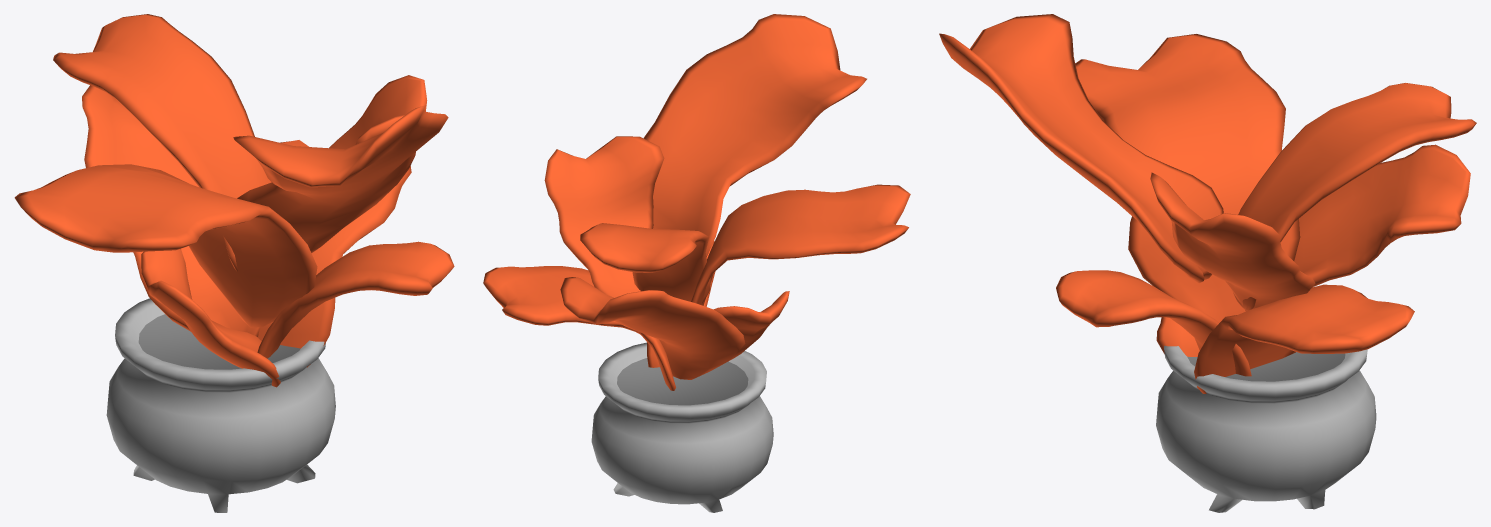
File: V2_Folige_01.fbx
3 renders of one model, left to right at view 1: azimuth 30°, elevation 25°; view 2: azimuth 150°, elevation 25°; view 3: azimuth 270°, elevation 25°, orthographic. The views are drawn at different scales.
Visible parts, largest first — view 1: Cylinder.038; view 2: Cylinder.038; view 3: Cylinder.038.
Part boxes in pixels (box(x1,y1,x2,y2)): Cylinder.038: box(14, 14, 454, 512); Cylinder.038: box(483, 14, 910, 512); Cylinder.038: box(939, 14, 1476, 512).
Size of the model in its own units: 106 by 107 by 114.
